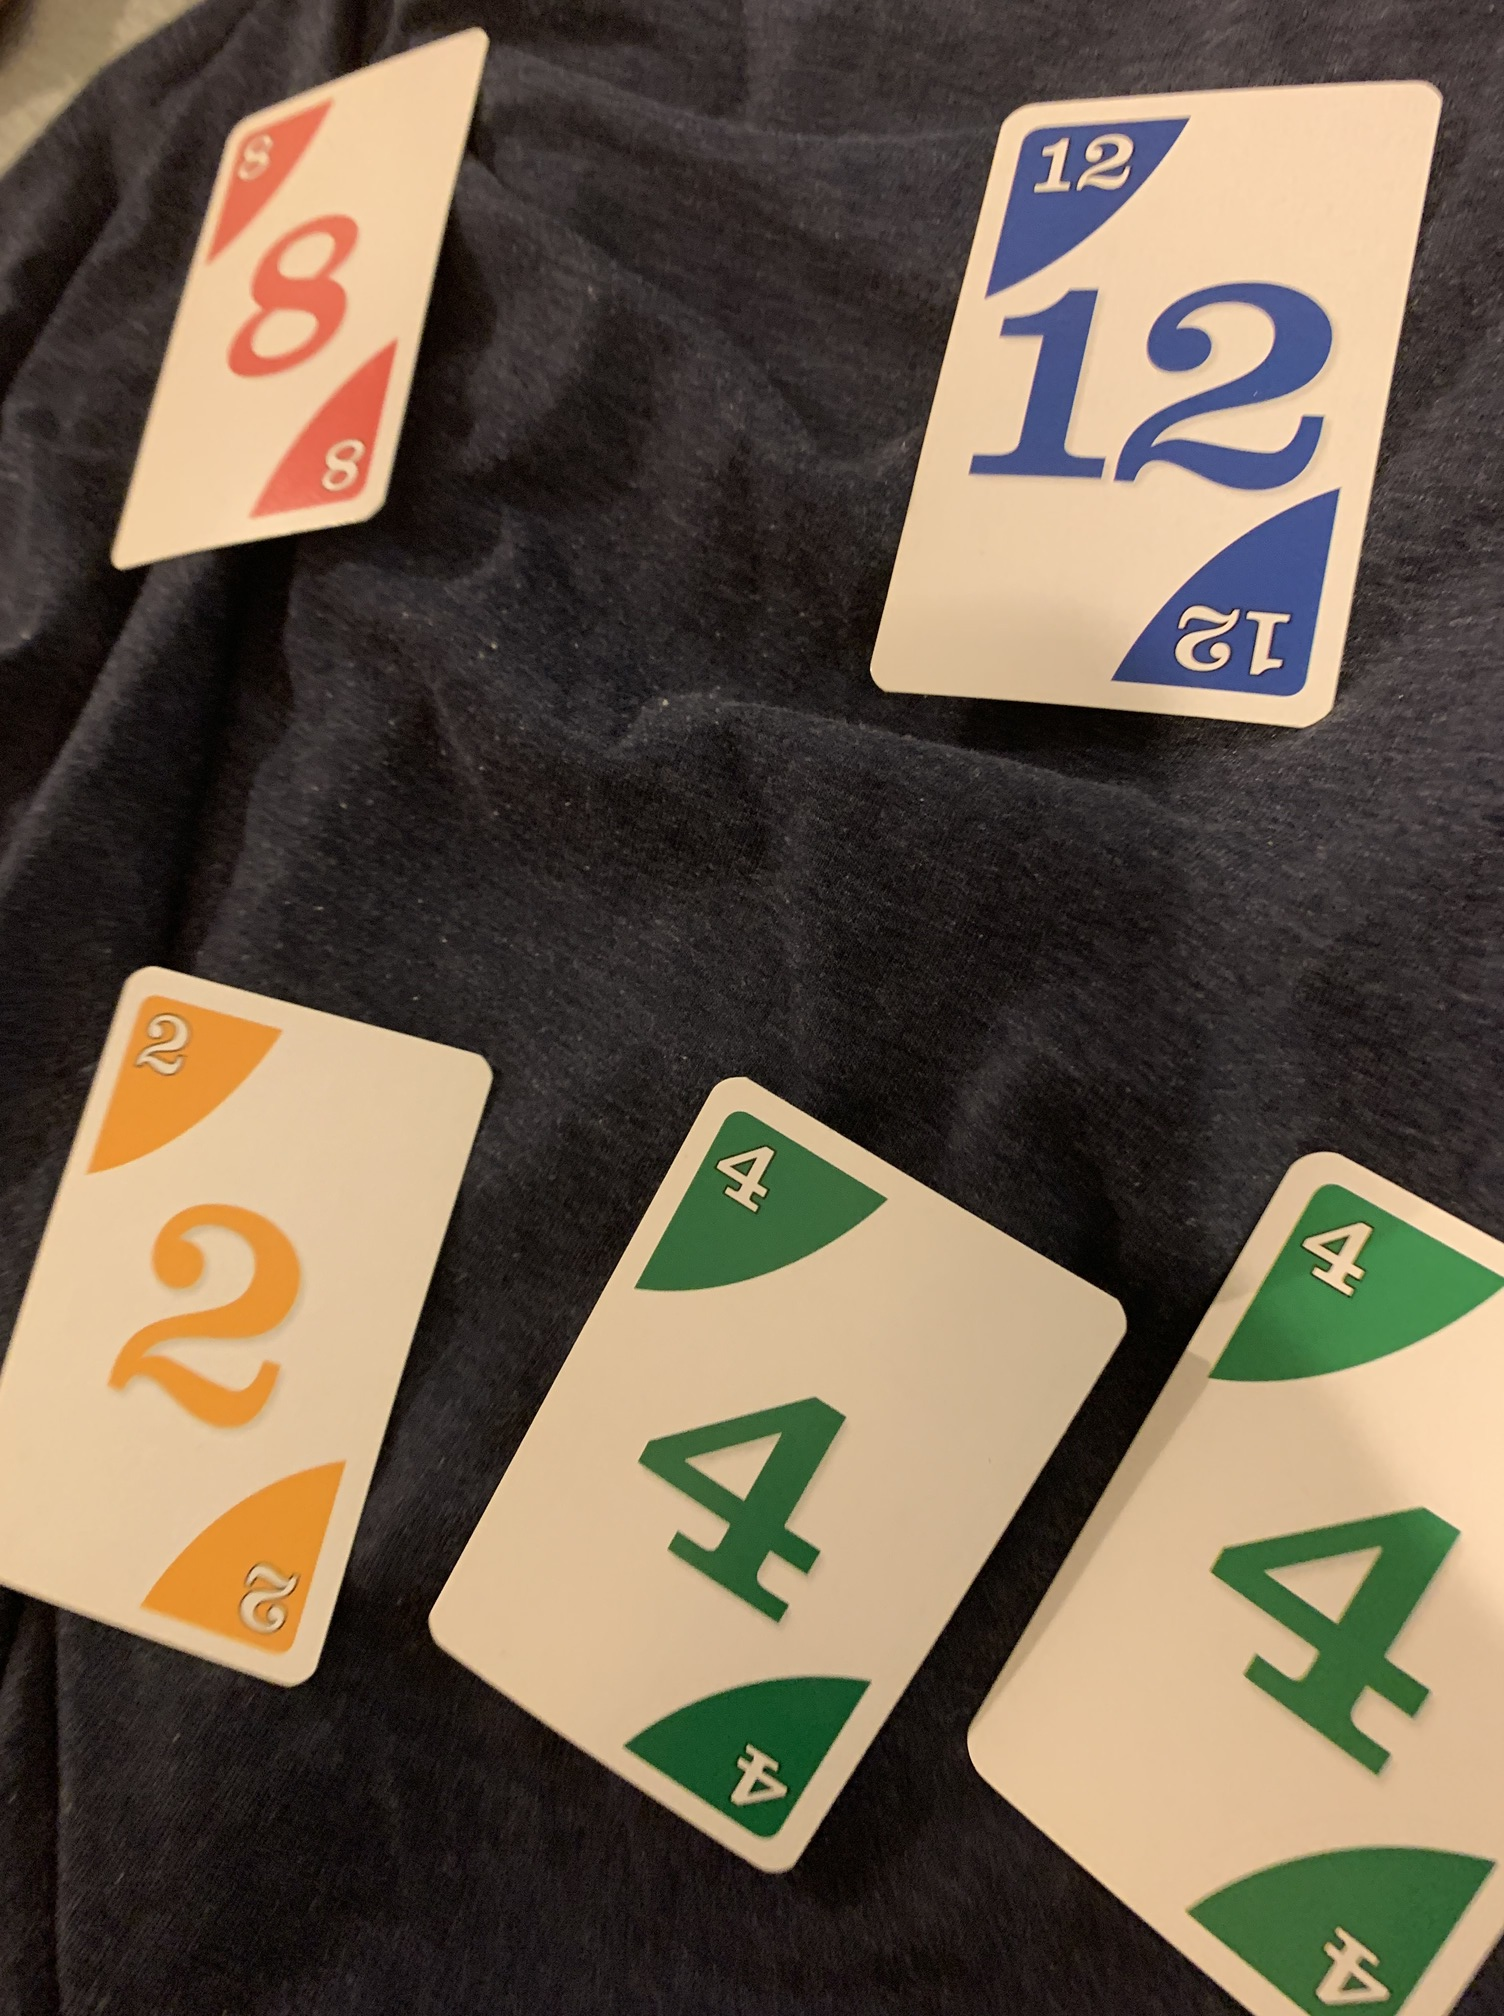eight: (100, 24, 506, 572)
four: (431, 1089, 1145, 1888), (959, 1141, 1504, 2010)
twelve: (869, 74, 1461, 736)
two: (3, 961, 493, 1709)
